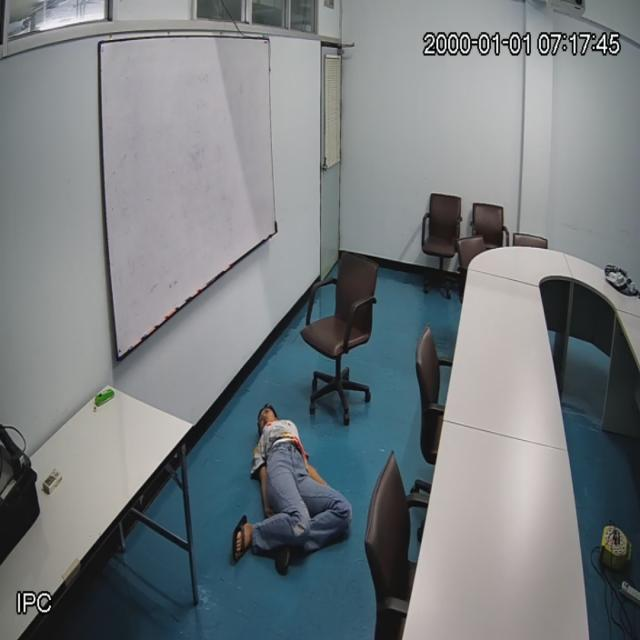fall: (228, 402, 356, 592)
